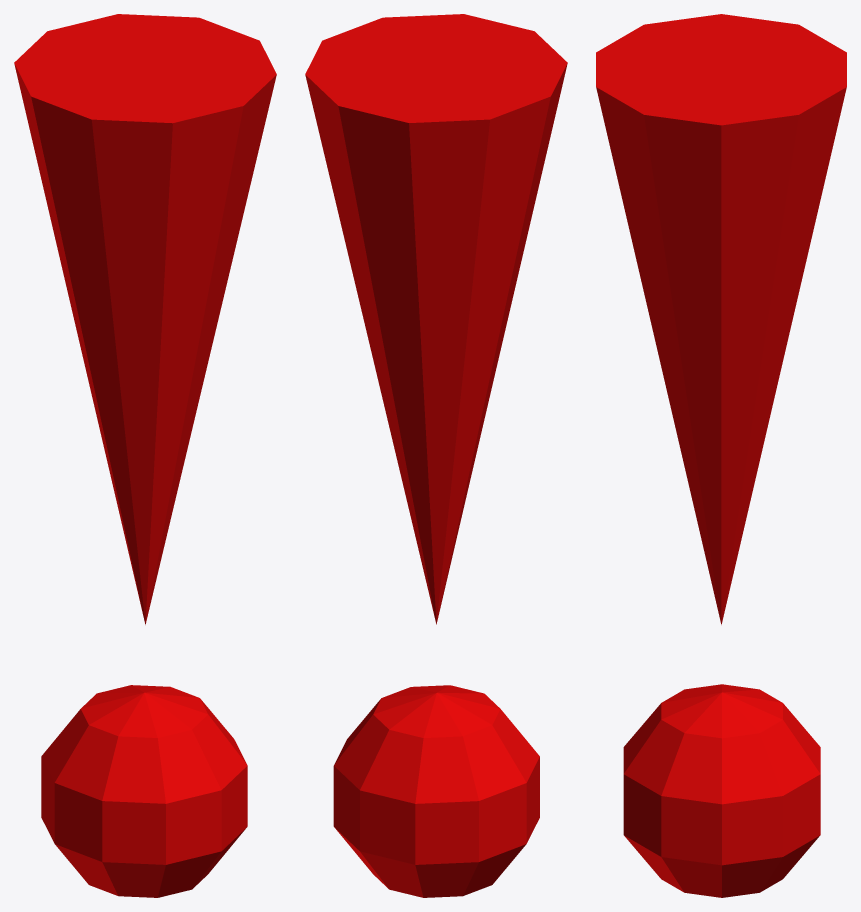
The model's file is exclamation mark.fbx.
3 views of the same model, side by side, from view 1: azimuth 30°, elevation 25°; view 2: azimuth 150°, elevation 25°; view 3: azimuth 270°, elevation 25° (orthographic).
Parts seen in each view (by area): view 1: pCone2; view 2: pCone2; view 3: pCone2.
Part boxes in pixels (left/top/right/bottom): pCone2: left=14, top=14, right=276, bottom=897; pCone2: left=305, top=14, right=567, bottom=897; pCone2: left=596, top=14, right=846, bottom=897.
Size of the model in its own units: 2.89 by 9.93 by 2.75.
